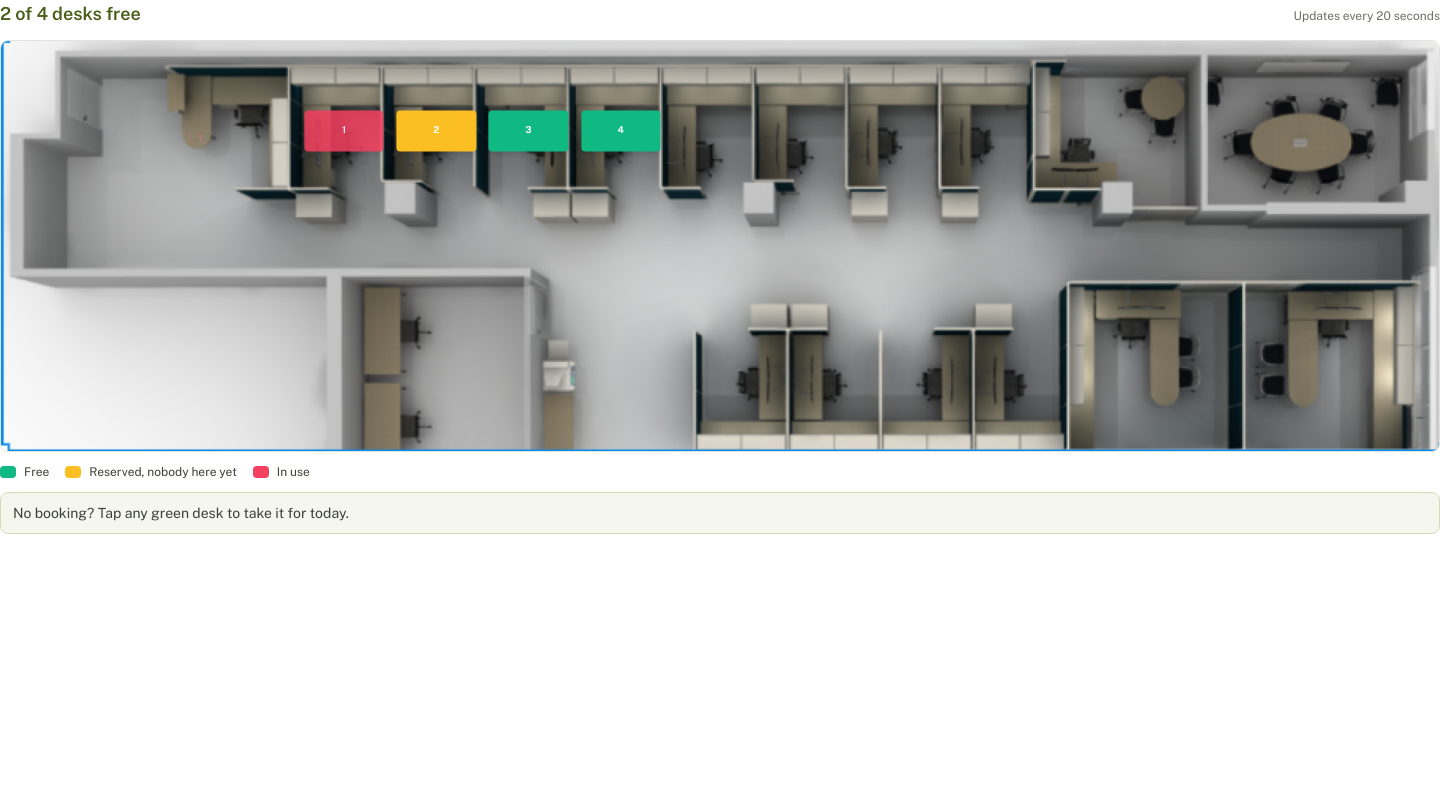
Test: a visitor cannot take a desk without naming a host
The image size is (1440, 810).
Expected: the heading "2 of 4 desks free" is shown, [0,0,141,28]
Click the button named "Desk 4, free" at [621, 131], box [581,110,660,151]
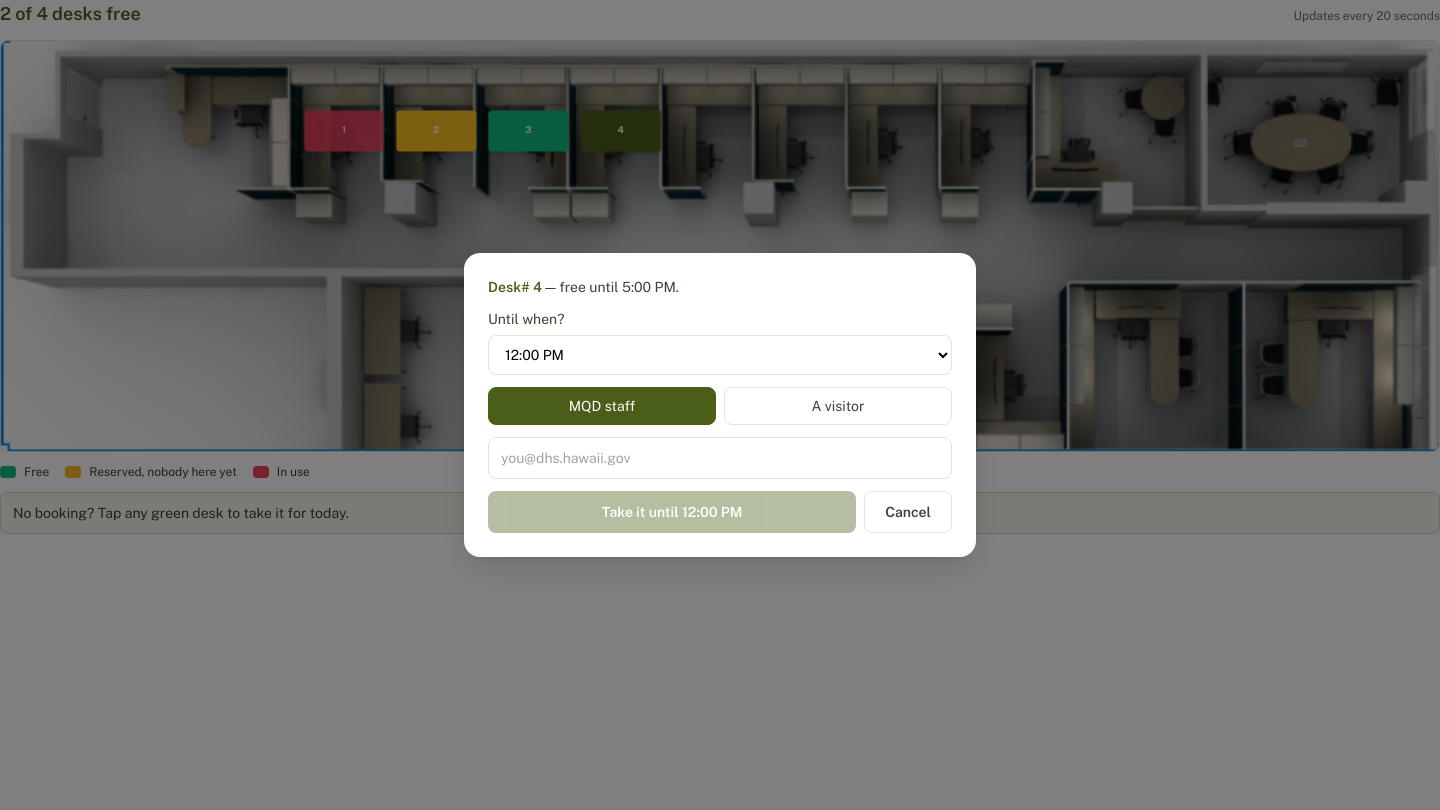
Click the button "A visitor" at [838, 406], box [724,387,952,425]
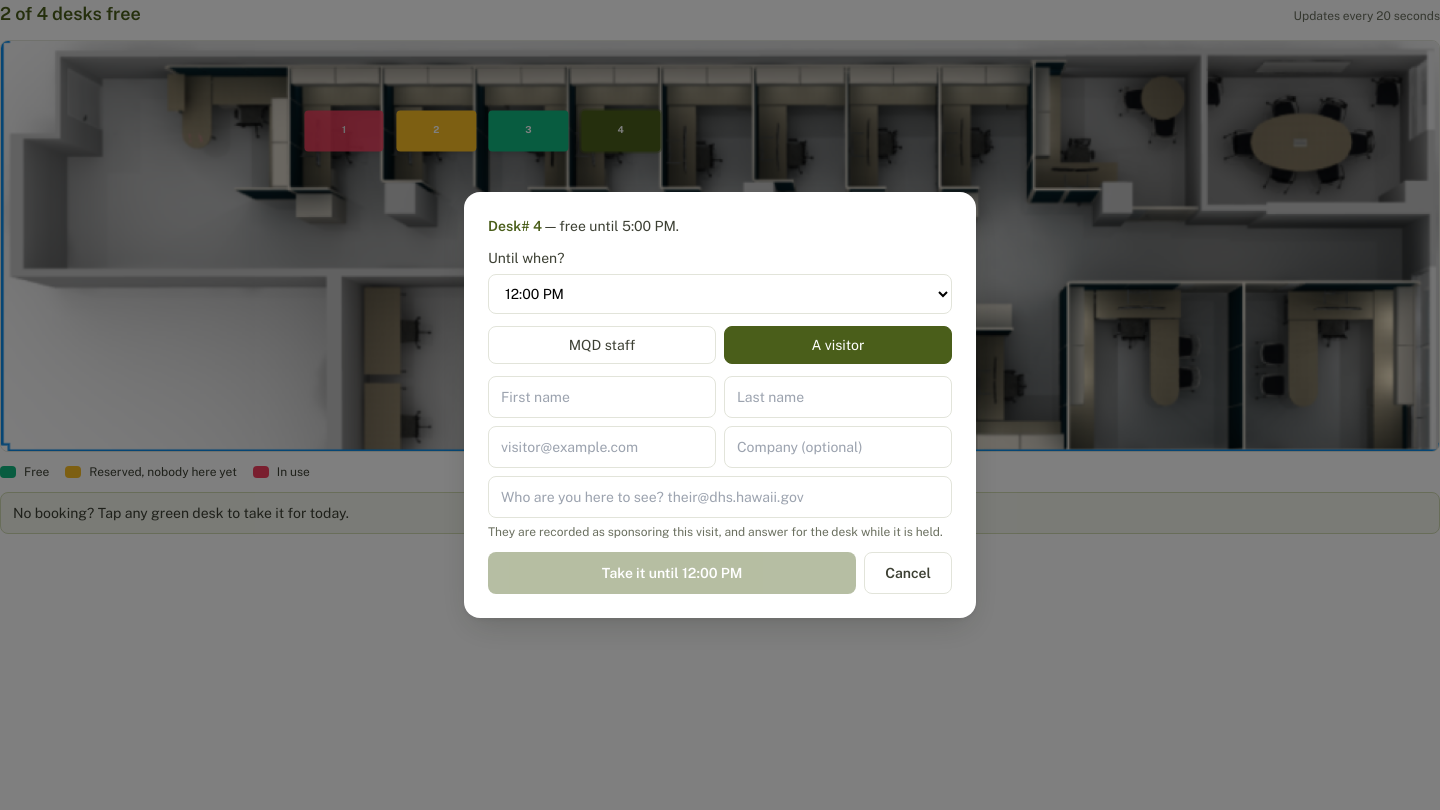
Type "Ana" into the field named "visitor first name" at [602, 397], box [488,376,716,418]
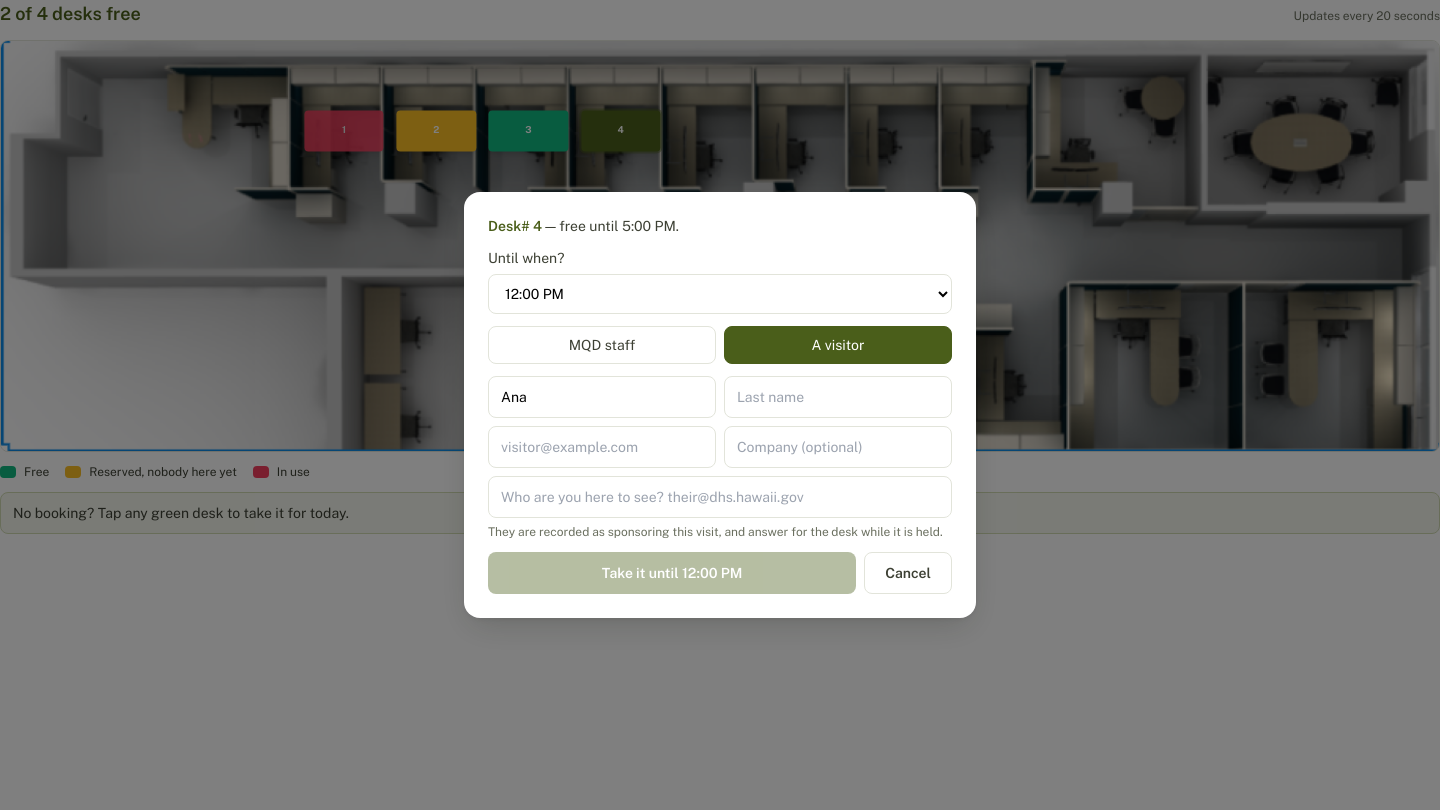
Type "Cruz" into the field named "visitor last name" at [838, 397], box [724,376,952,418]
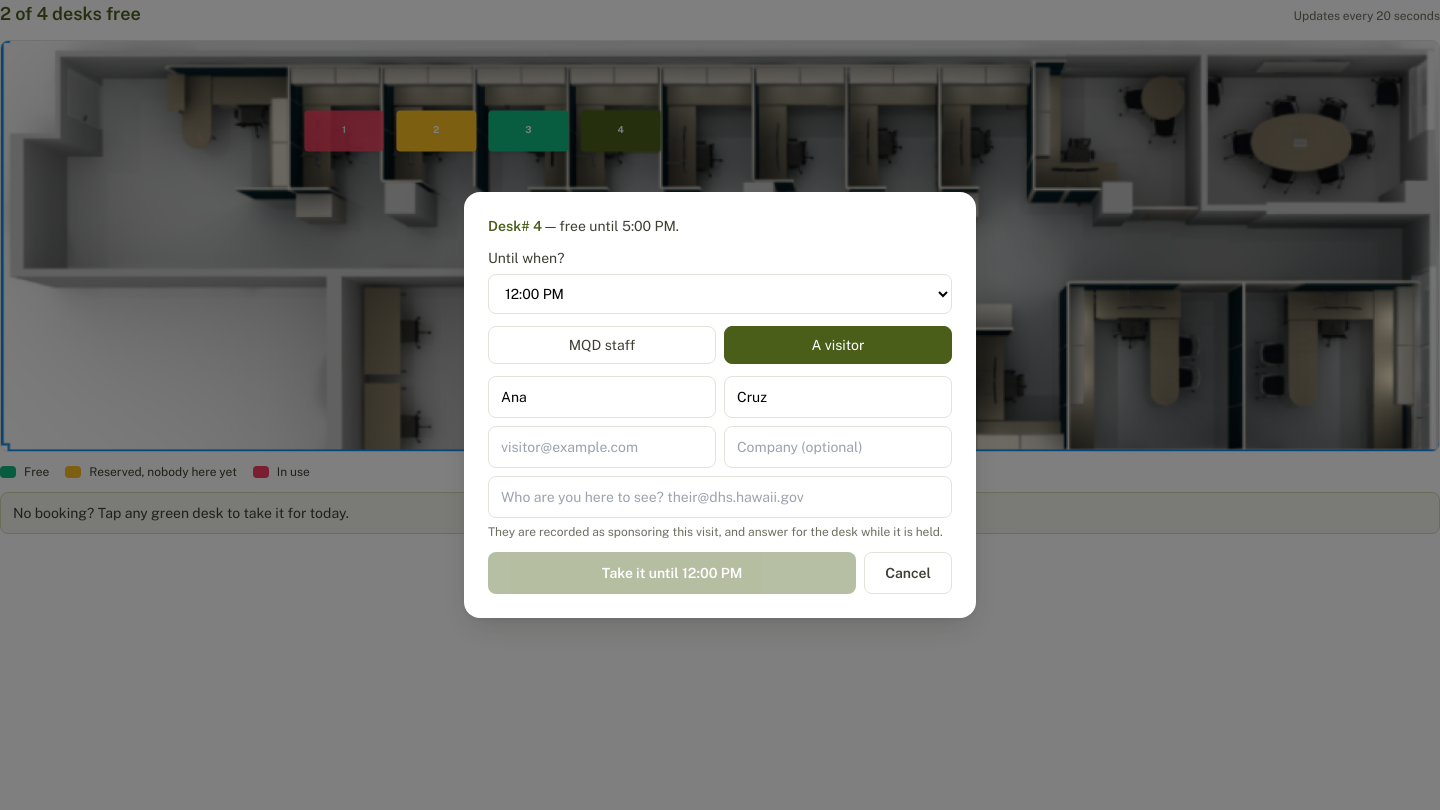
Type "ana@acme.test" into the field named "visitor email" at [602, 447], box [488,426,716,468]
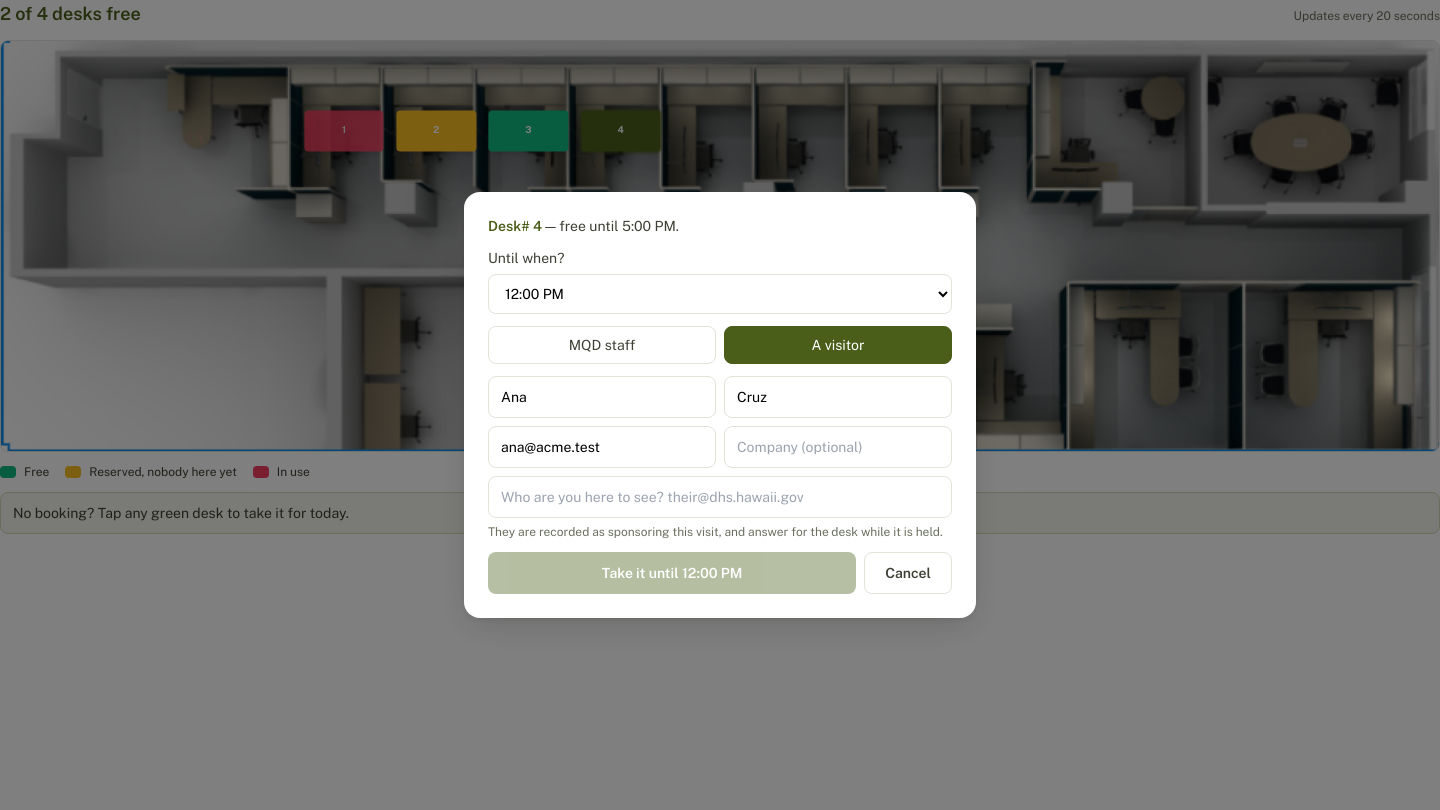
Expected: the button "Take it until 12:00 PM" is disabled, [488,552,856,594]
Type "rhona.ramos@dhs.hawaii.gov" into the field labelled "Who are you here to see? their@dhs.hawaii.gov" at [720, 497], box [488,476,952,518]
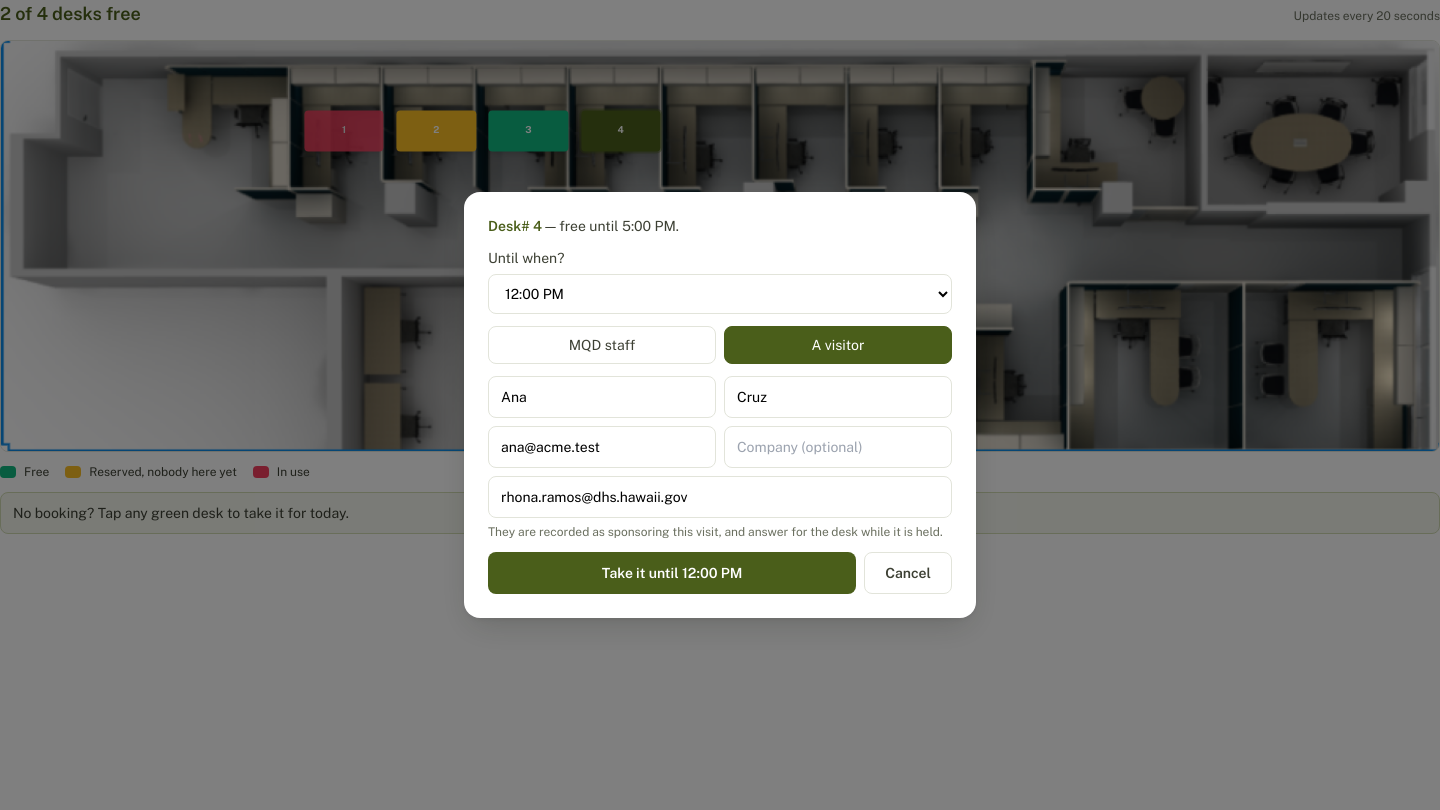
Expected: the button "Take it until 12:00 PM" is enabled, [488,552,856,594]
